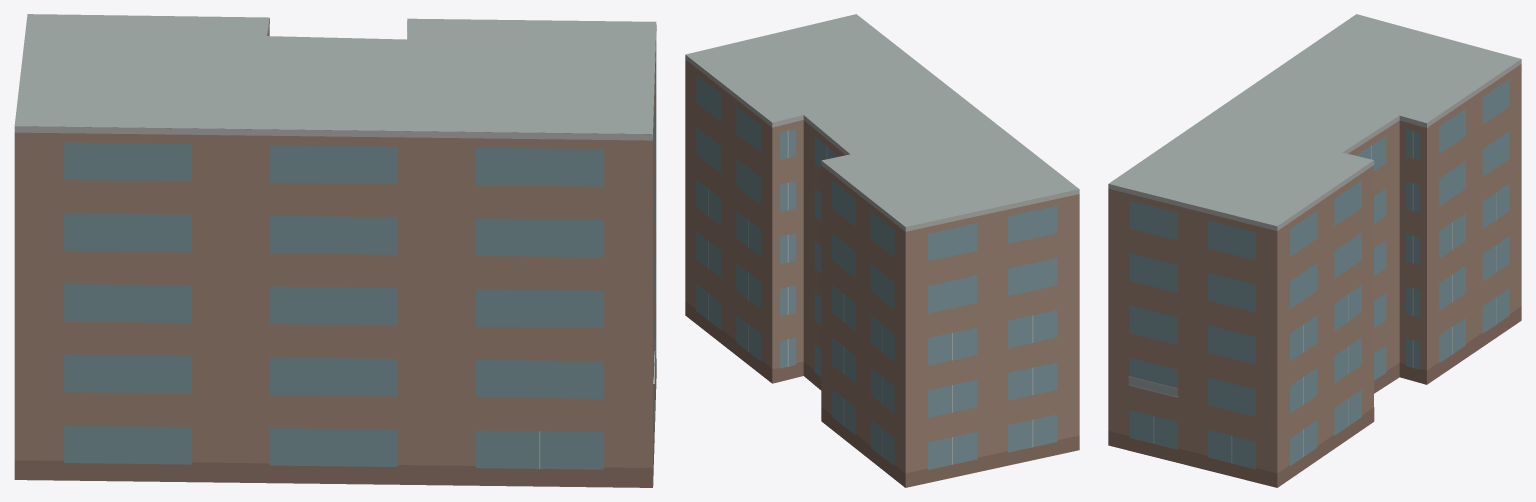
The model's file is survey-upis-32690598.glb.
The picture shows the model from 3 angles, left to right: view 1: azimuth 30°, elevation 25°; view 2: azimuth 150°, elevation 25°; view 3: azimuth 270°, elevation 25°; orthographic projection. The views are drawn at different scales.
Visible parts, largest first — view 1: survey-upis-32690598.tmp; view 2: survey-upis-32690598.tmp; view 3: survey-upis-32690598.tmp.
Part boxes in pixels (x1,y1,x2,y2): survey-upis-32690598.tmp: (14,14,656,487); survey-upis-32690598.tmp: (685,14,1079,487); survey-upis-32690598.tmp: (1108,14,1521,487).
Size of the model in its own units: 23.33 by 13.4 by 19.2.
